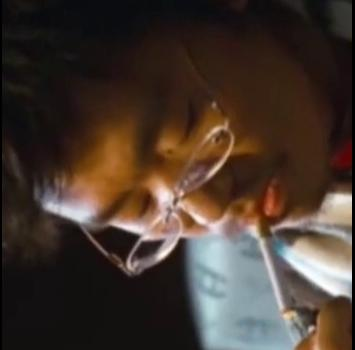Cigarette: (250, 211, 296, 317)
